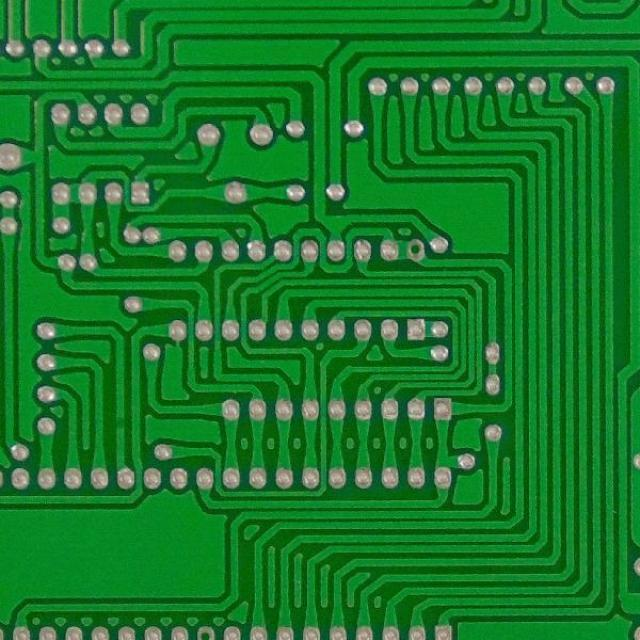Missing_Hole: (406, 237, 424, 265), (194, 625, 218, 640)
